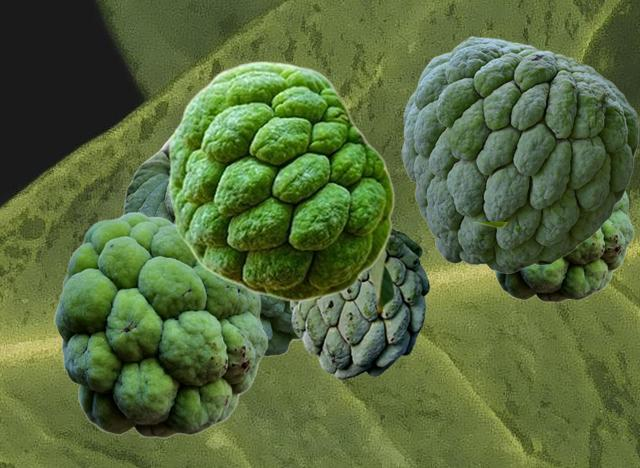atis: (401, 36, 638, 272), (168, 60, 394, 301), (54, 211, 267, 438), (122, 131, 301, 356), (287, 222, 506, 379), (494, 192, 633, 302)
